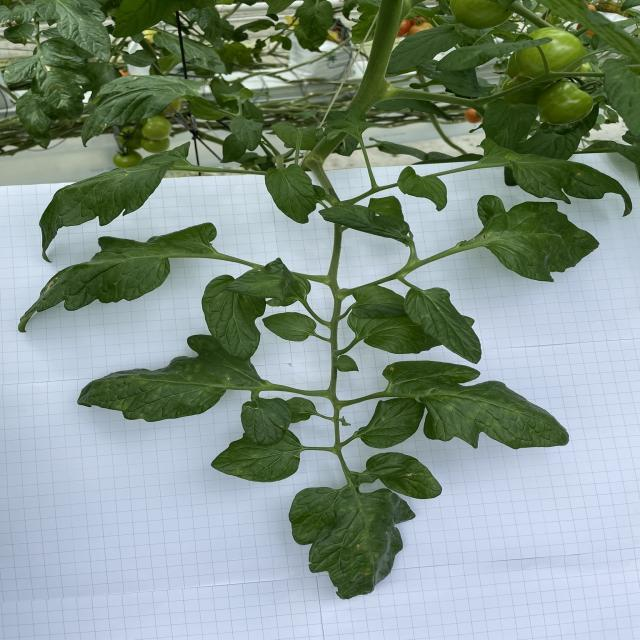Tomato healthy leaf: (37, 141, 192, 264), (201, 274, 267, 363), (36, 0, 111, 64), (320, 196, 412, 247), (226, 256, 313, 308), (436, 36, 552, 72), (347, 312, 443, 355), (385, 25, 462, 78), (112, 0, 216, 38), (264, 164, 316, 224), (601, 57, 640, 137), (484, 97, 538, 150), (398, 166, 448, 212), (350, 284, 404, 319), (261, 312, 317, 342), (230, 115, 265, 151)
Tomato target spot leaf: (381, 360, 574, 450), (77, 334, 260, 424), (288, 486, 418, 599), (403, 284, 482, 364), (209, 428, 300, 484), (356, 399, 426, 449)
